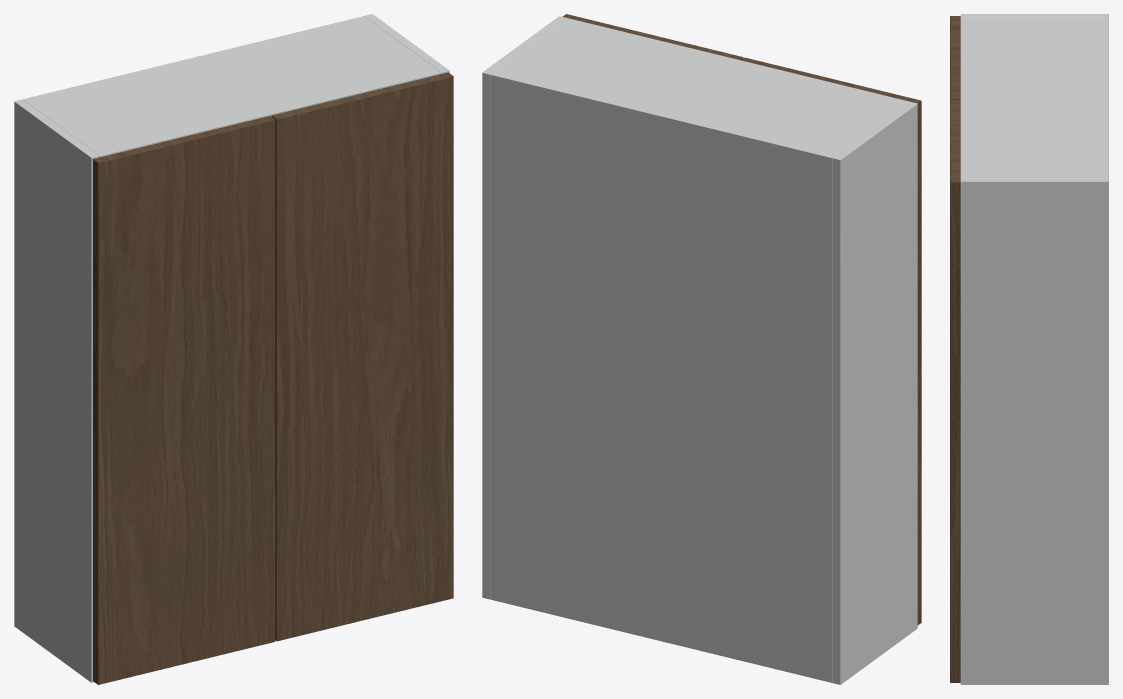
Rendered from oppein-ply-mso-w3042.glb.
3 views of the same model, side by side, from view 1: azimuth 30°, elevation 25°; view 2: azimuth 150°, elevation 25°; view 3: azimuth 270°, elevation 25° (orthographic). The views are drawn at different scales.
Visible parts, largest first — view 1: Door, Door.001, Cabinet side, Cabinet top, Cabinet side.001; view 2: Cabinet back, Cabinet side, Cabinet top, Cabinet side.001, Door, Cabinet bottom, Door.001; view 3: Cabinet side.001, Cabinet top, Door.001, Door, Cabinet side.
Boxes of the visible parts, bbox=[...] form: Door: bbox=[93, 116, 275, 684]; Door.001: bbox=[271, 72, 453, 641]; Cabinet side: bbox=[14, 99, 99, 682]; Cabinet top: bbox=[23, 16, 441, 157]; Cabinet side.001: bbox=[364, 14, 449, 73]; Cabinet back: bbox=[490, 75, 832, 682]; Cabinet side: bbox=[832, 101, 917, 684]; Cabinet top: bbox=[490, 18, 908, 165]; Cabinet side.001: bbox=[482, 16, 567, 599]; Door: bbox=[741, 57, 921, 625]; Cabinet bottom: bbox=[490, 591, 832, 682]; Door.001: bbox=[562, 14, 743, 60]; Cabinet side.001: bbox=[960, 177, 1108, 684]; Cabinet top: bbox=[960, 18, 1108, 177]; Door.001: bbox=[950, 99, 960, 682]; Door: bbox=[950, 16, 960, 99]; Cabinet side: bbox=[960, 14, 1108, 17].
Bounding box in the file's own units: 0.762 × 1.07 × 0.3048.
Materials: 2 (1 with a texture image).
